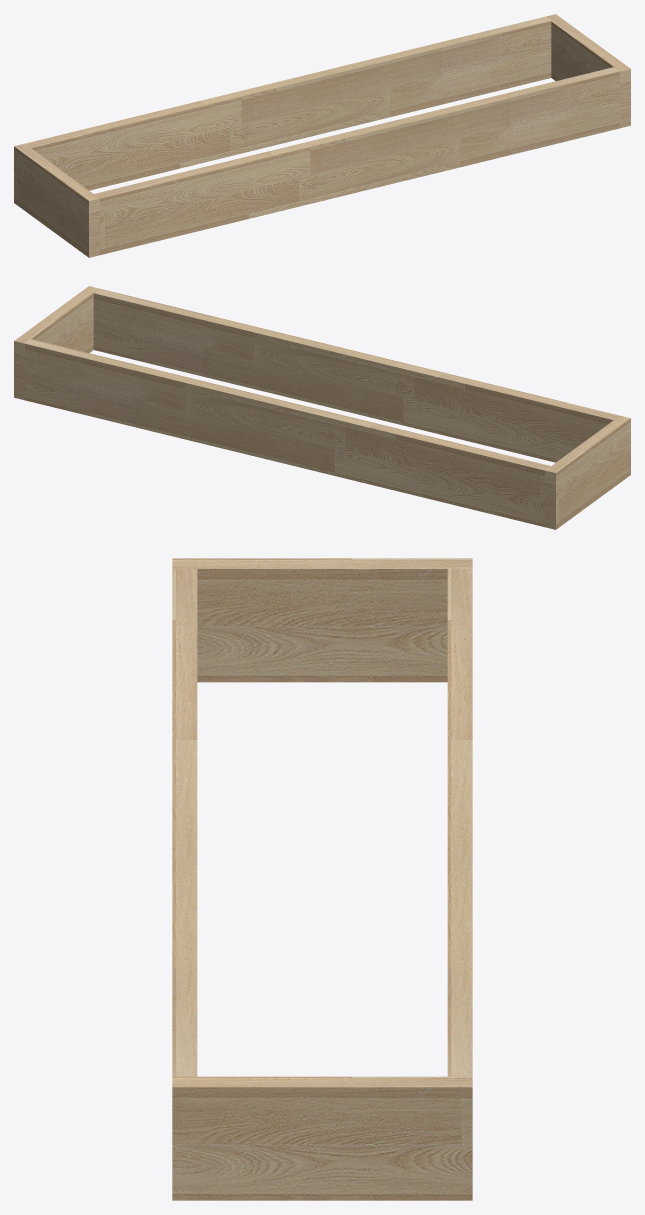
The picture shows the model from 3 angles, top to bottom: view 1: azimuth 30°, elevation 25°; view 2: azimuth 150°, elevation 25°; view 3: azimuth 270°, elevation 25°; orthographic projection. The views are drawn at different scales.
Visible parts, largest first — view 1: Sokkel front_back, Sokkel front_back.001, Sokkel side, Sokkel side.001; view 2: Sokkel front_back.001, Sokkel front_back, Sokkel side, Sokkel side.001; view 3: Sokkel side.001, Sokkel side, Sokkel front_back, Sokkel front_back.001.
Boxes of the visible parts, x1,y1,x2,y2 form: Sokkel front_back: (94, 67, 619, 255); Sokkel front_back.001: (25, 16, 551, 190); Sokkel side: (14, 143, 99, 257); Sokkel side.001: (545, 14, 630, 128); Sokkel front_back.001: (25, 339, 550, 527); Sokkel front_back: (93, 288, 619, 462); Sokkel side: (545, 415, 630, 529); Sokkel side.001: (14, 286, 99, 400); Sokkel side.001: (172, 1076, 472, 1200); Sokkel side: (172, 558, 472, 682); Sokkel front_back: (172, 569, 197, 1076); Sokkel front_back.001: (447, 569, 472, 1076).
Size of the model in its own units: 1 by 0.1 by 0.24.
Materials: 1 (1 with a texture image).
